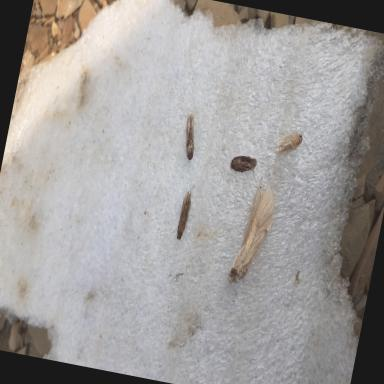pbw: (174, 191, 195, 242), (274, 127, 304, 161), (226, 150, 260, 180), (178, 118, 200, 160)
